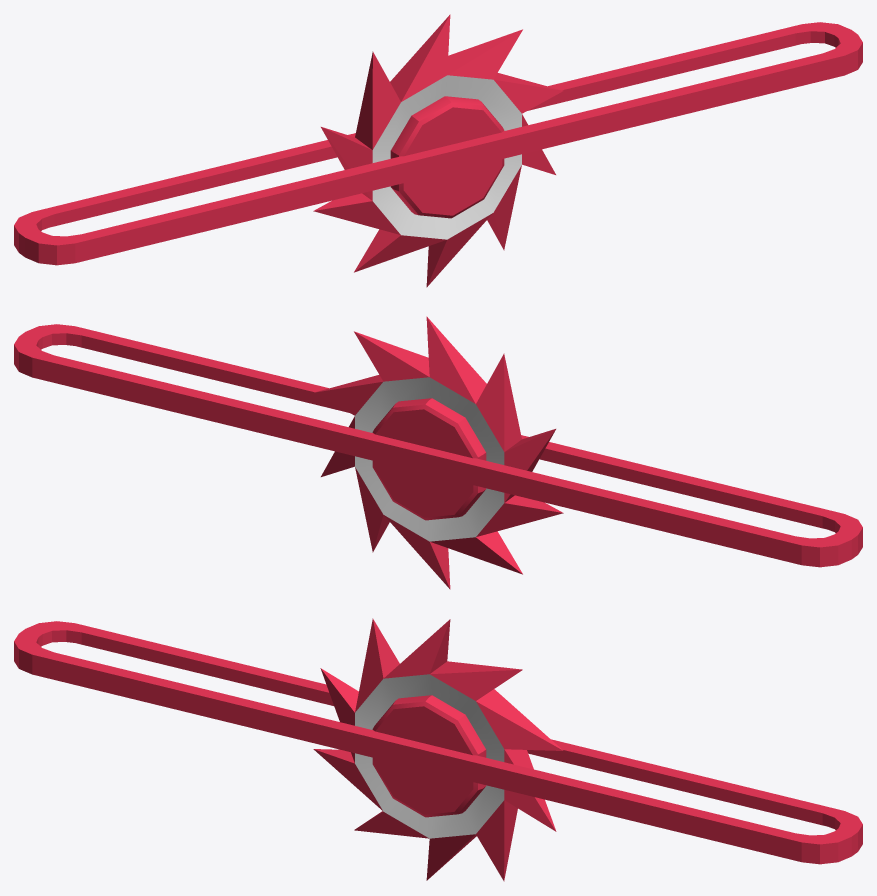
Rendered from SawObstacle.fbx.
3 renders of one model, top to bottom at view 1: azimuth 30°, elevation 25°; view 2: azimuth 150°, elevation 25°; view 3: azimuth 330°, elevation 25°, orthographic.
Parts seen in each view (by area): view 1: Cube.004, Cylinder; view 2: Cube.004, Cylinder; view 3: Cube.004, Cylinder.
Boxes of the visible parts, x1,y1,x2,y2 form: Cube.004: (14, 22, 862, 265); Cylinder: (313, 14, 563, 287); Cube.004: (14, 324, 862, 567); Cylinder: (313, 316, 563, 589); Cube.004: (14, 621, 862, 864); Cylinder: (313, 618, 563, 881).
Size of the model in its own units: 231 by 71.12 by 20.67.
2 materials, 2 textured.
